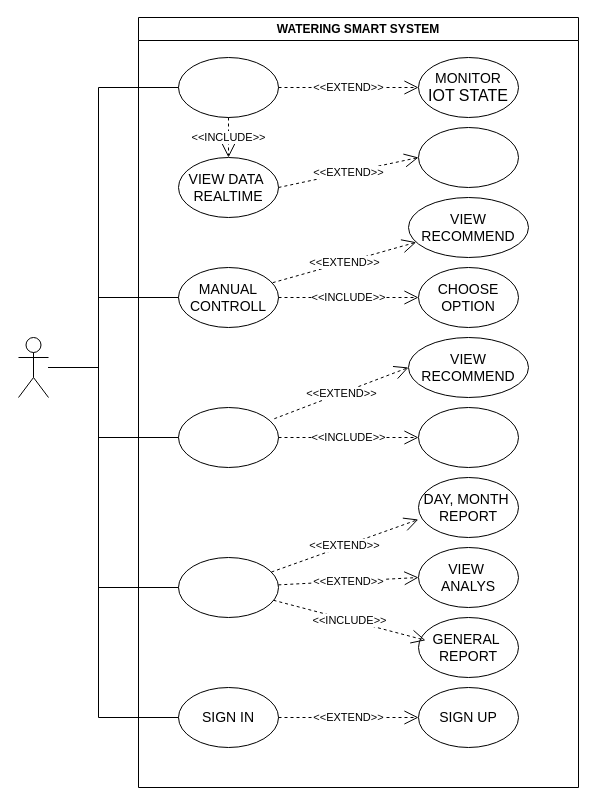
Some shapes in this 596 by 805 pixel diagram are drawn without their labels. The shapes that lost their labels are listed below. From the top down, each one's box as (x1, y1, x2, y2) in pixels, then its label:
(178, 56, 278, 118): MONITOR FARM
(418, 126, 518, 188): VIEW GENERAL DATA
(18, 336, 48, 398): USER
(178, 406, 278, 468): AUTOMATIC CONTROLL
(418, 406, 518, 468): SCHEDULE
(178, 556, 278, 618): VIEW REPORT
